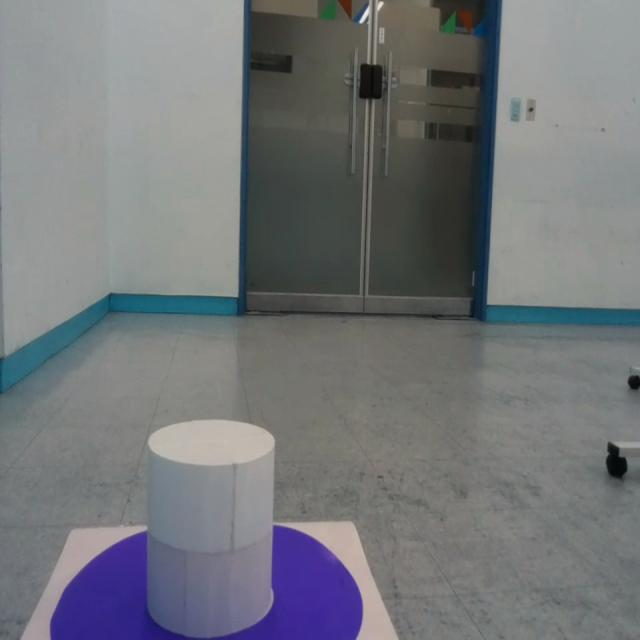cylinder: (144, 417, 277, 635)
